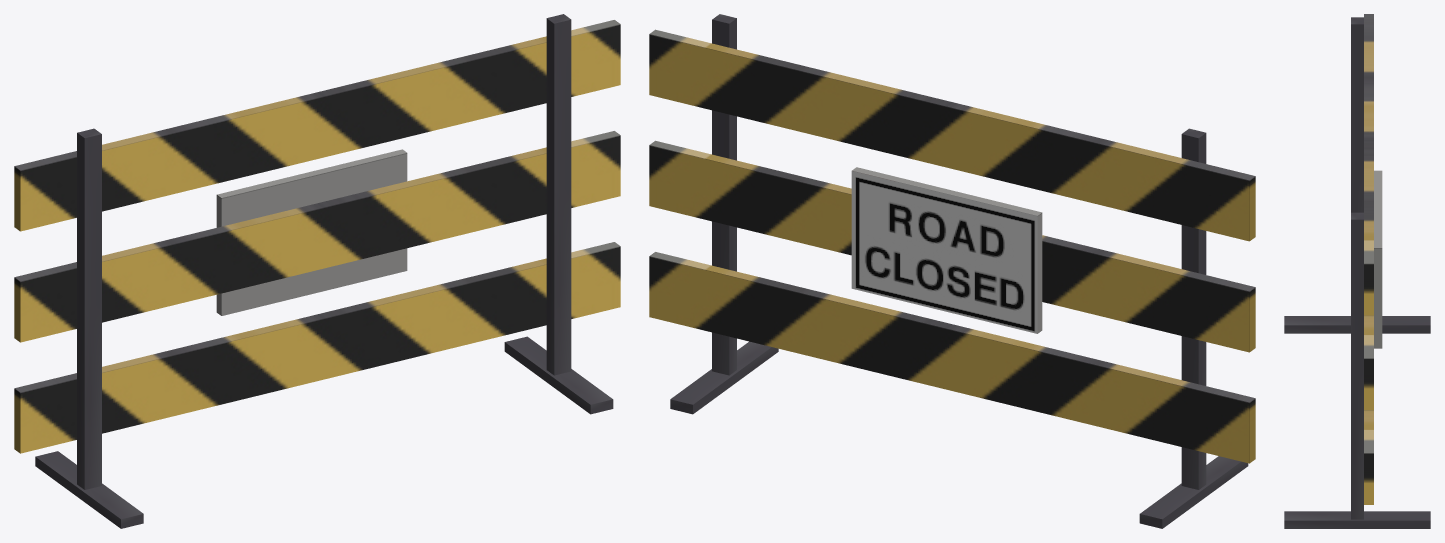
File: scp_ep_barrier_03.fbx
3 views of the same model, side by side, from view 1: azimuth 30°, elevation 25°; view 2: azimuth 150°, elevation 25°; view 3: azimuth 270°, elevation 25° (orthographic). The views are drawn at different scales.
Parts seen in each view (by area): view 1: scp_ep_barrier_03; view 2: scp_ep_barrier_03; view 3: scp_ep_barrier_03.
Boxes of the visible parts, <box> form: scp_ep_barrier_03: <box>14,14,620,528</box>; scp_ep_barrier_03: <box>649,14,1255,528</box>; scp_ep_barrier_03: <box>1284,14,1430,528</box>.
Bounding box in the file's own units: 2.66 × 1.53 × 0.6589.
